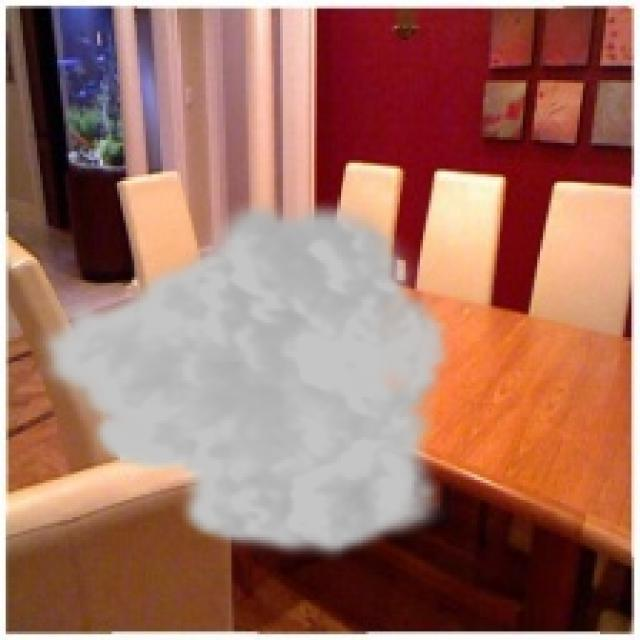Smoke: (32, 191, 454, 563)
